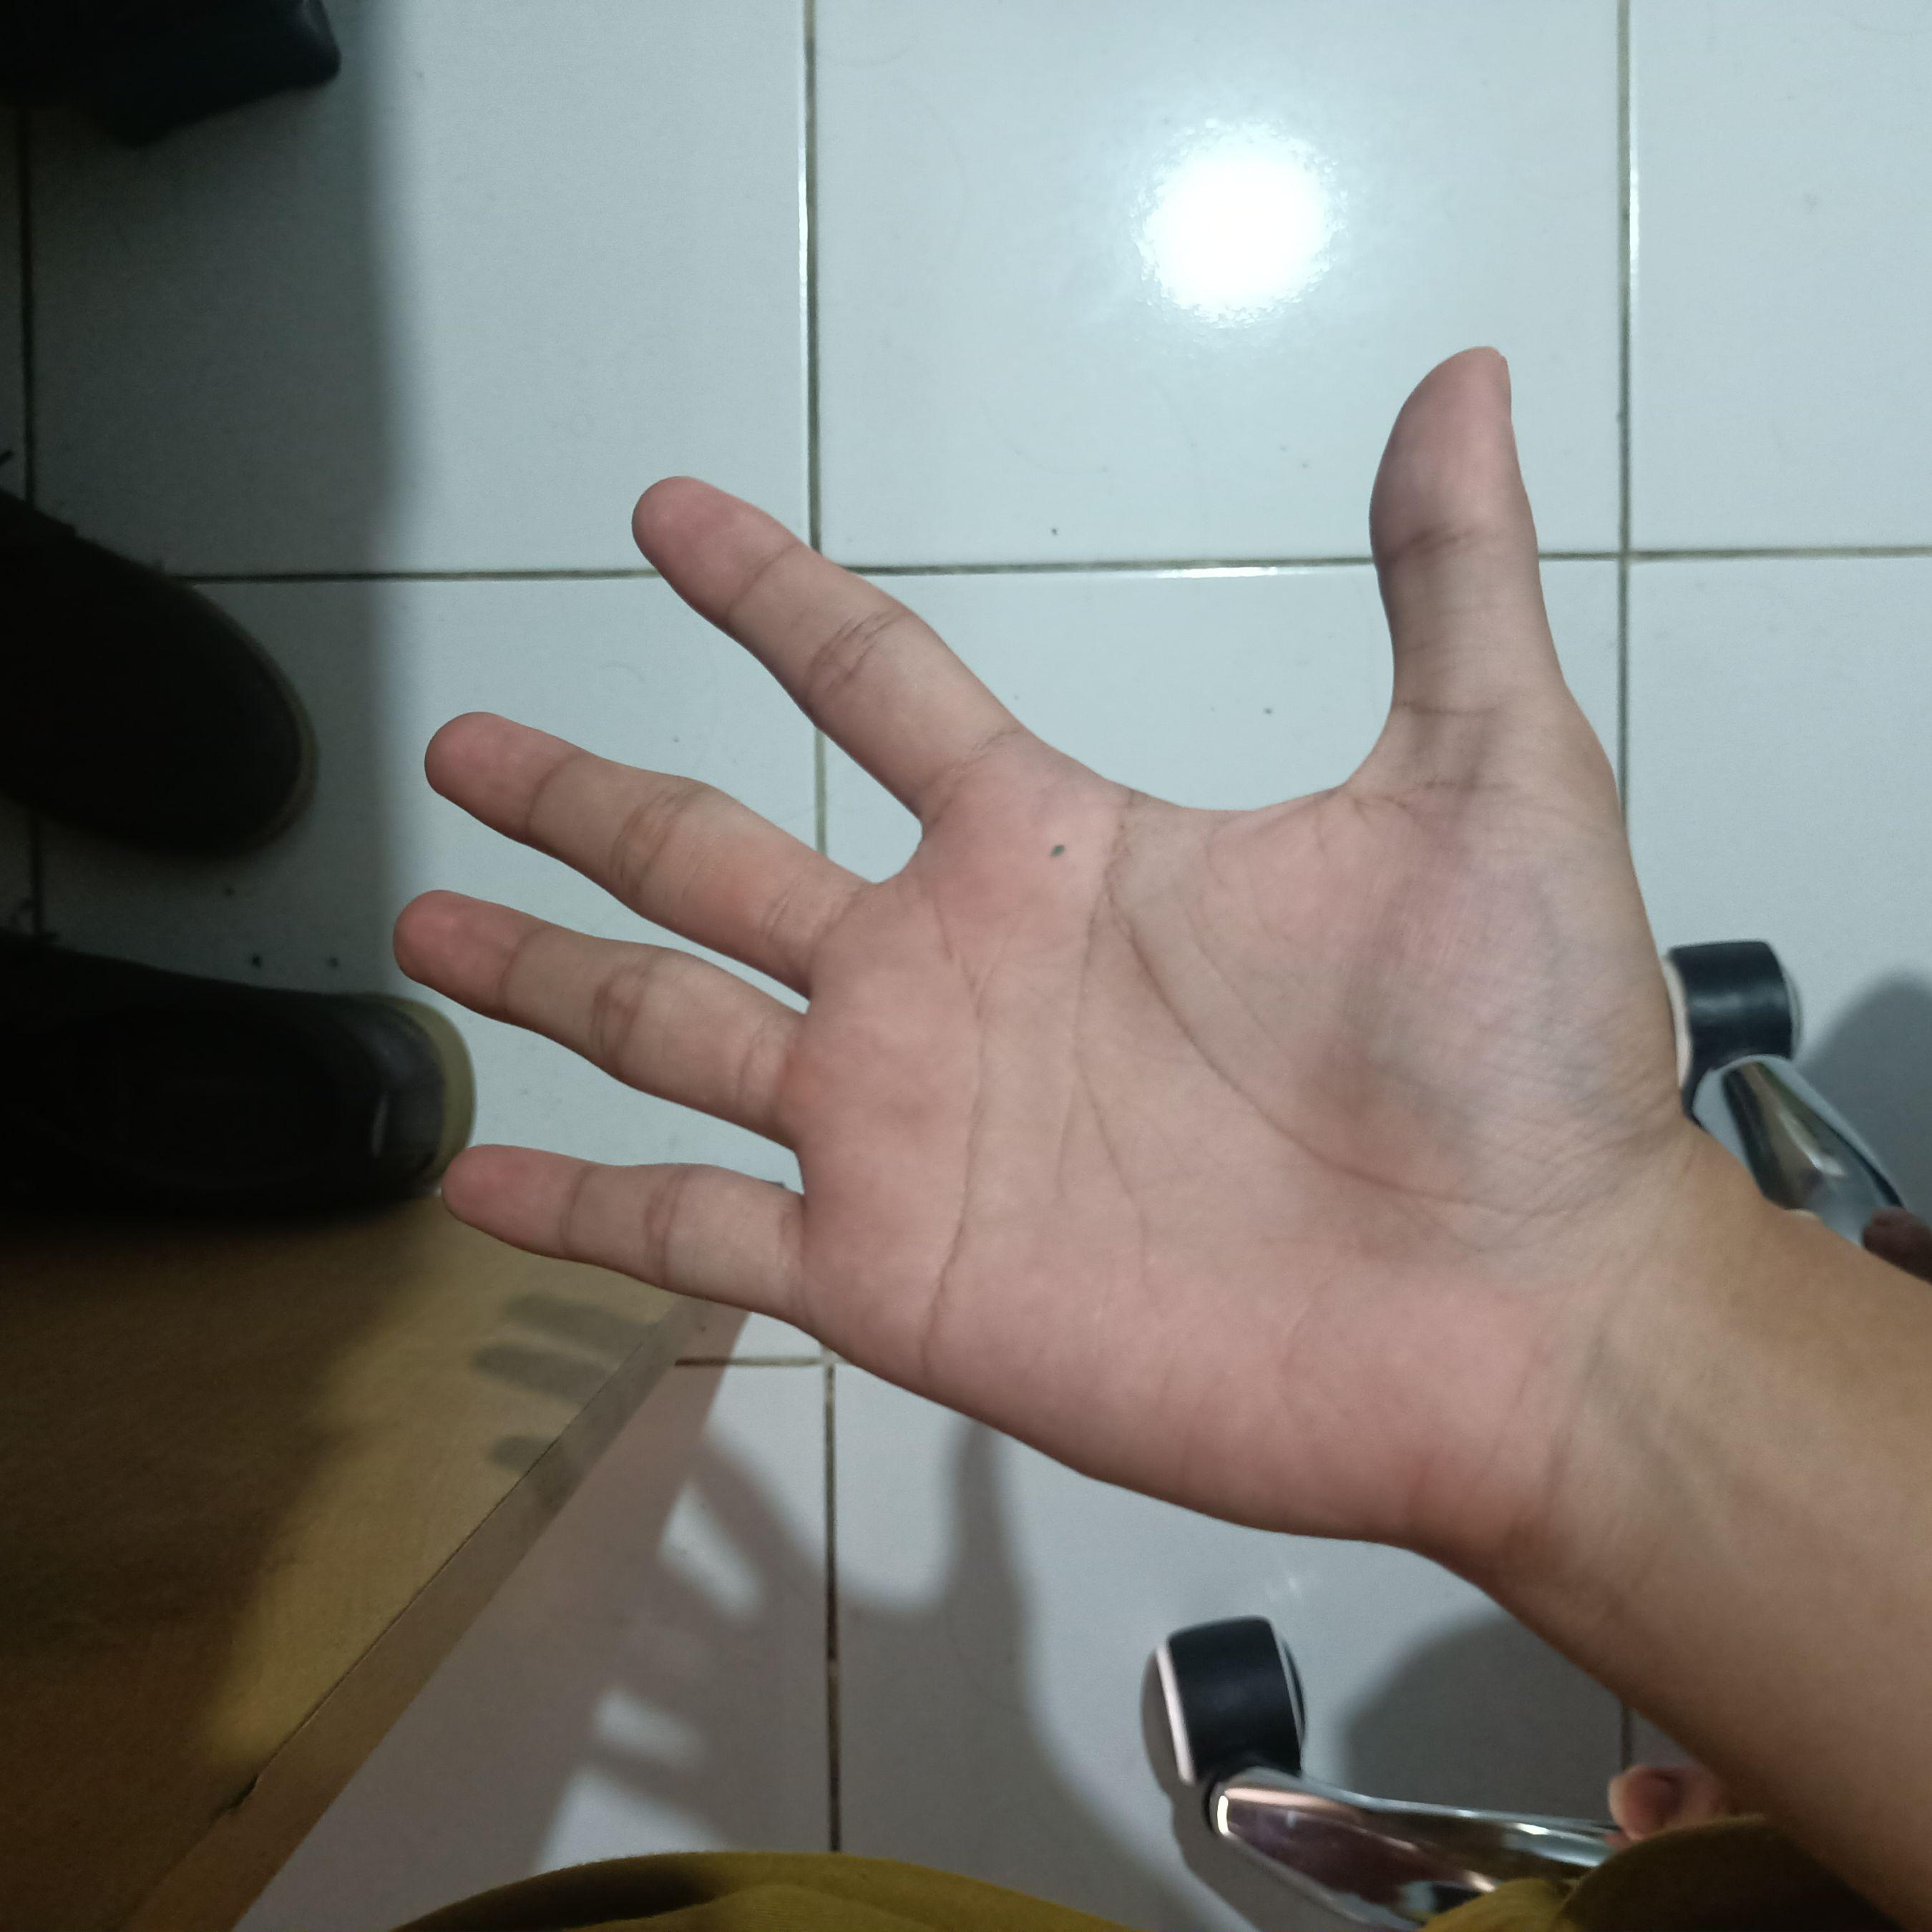paper: (359, 320, 1706, 1603)
